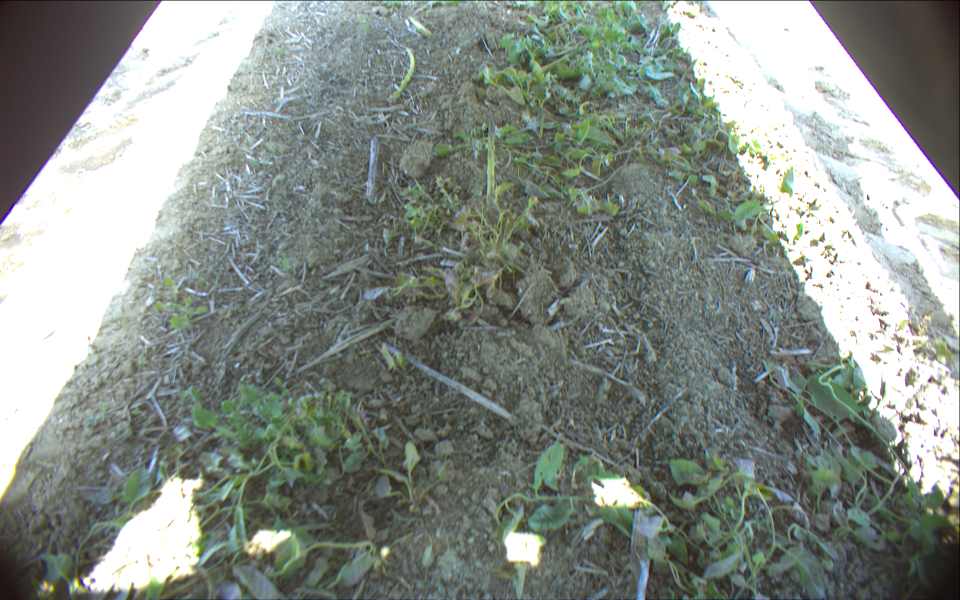aspa: (388, 45, 415, 103), (485, 118, 497, 219), (408, 16, 432, 37)
